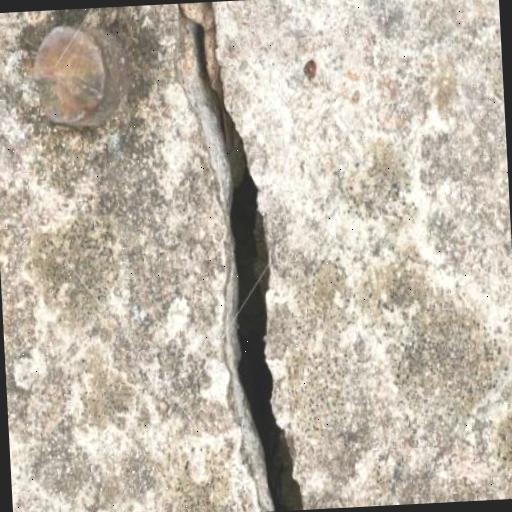spalling: (177, 6, 309, 512)
